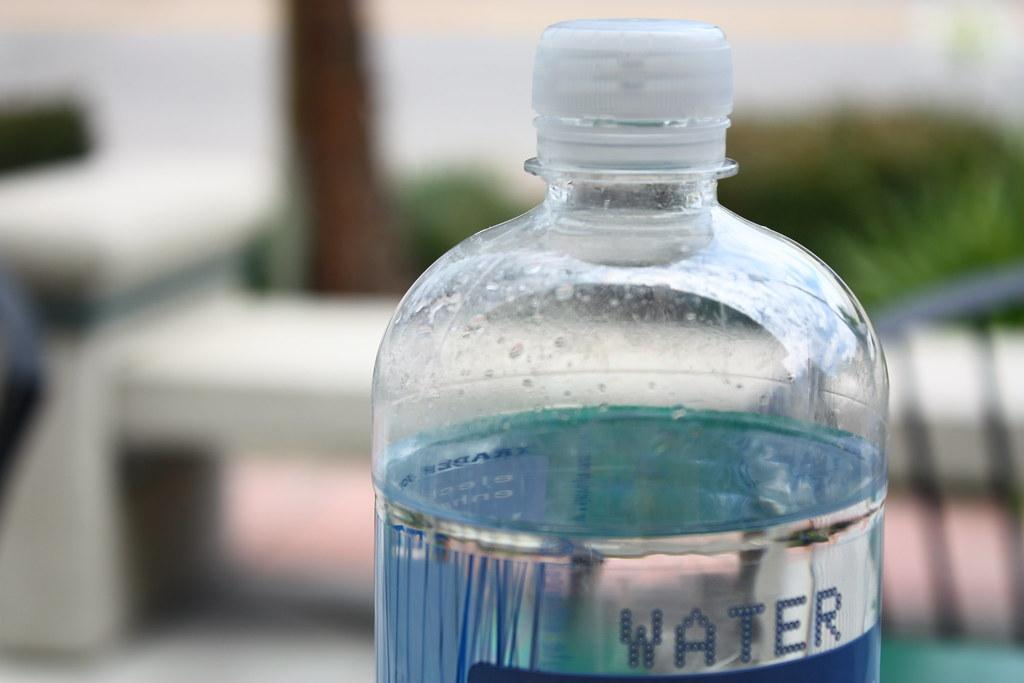bottle: (370, 18, 892, 682)
